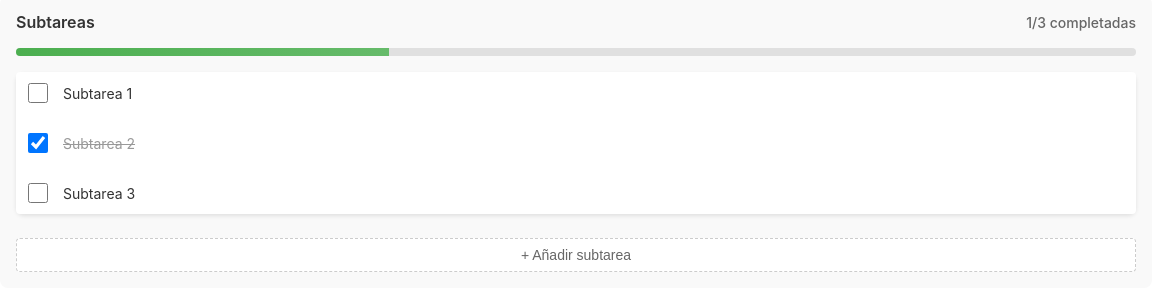
Test case: SubtaskChecklist › UI de añadir subtarea › debe habilitar botón confirmar cuando hay texto
The width and height of the screenshot is (1152, 301).
Step 1. Click the button "+ Añadir subtarea" → (576, 255), box [16, 238, 1136, 272]
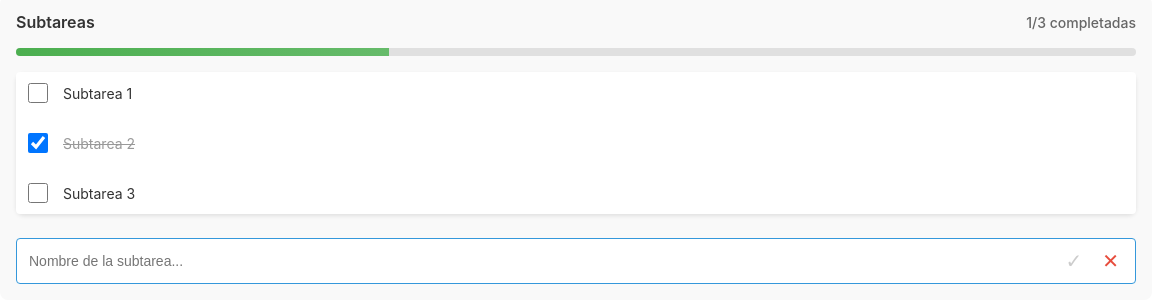
Step 2. Type "Nueva" into the field with placeholder "Nombre de la subtarea..." → (537, 261), box [25, 249, 1050, 273]
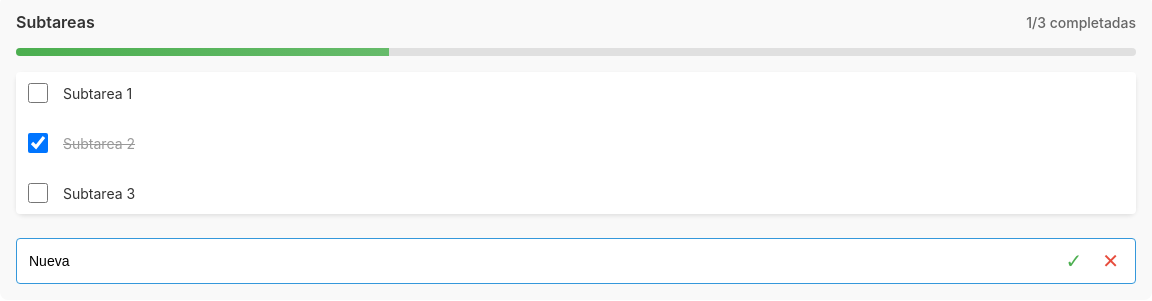
Now the button "✓" is enabled, box [1058, 247, 1090, 275]
